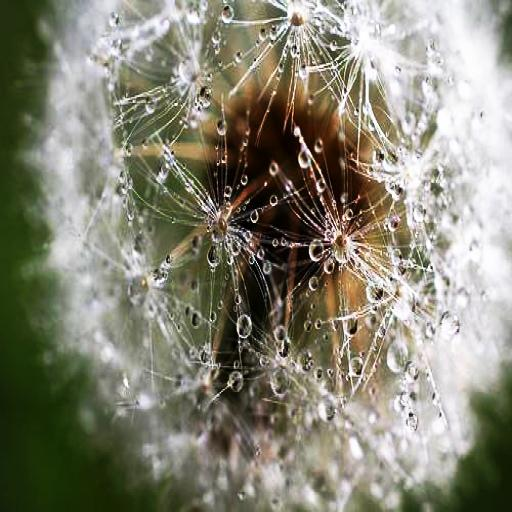dandelion: (7, 0, 511, 512)
